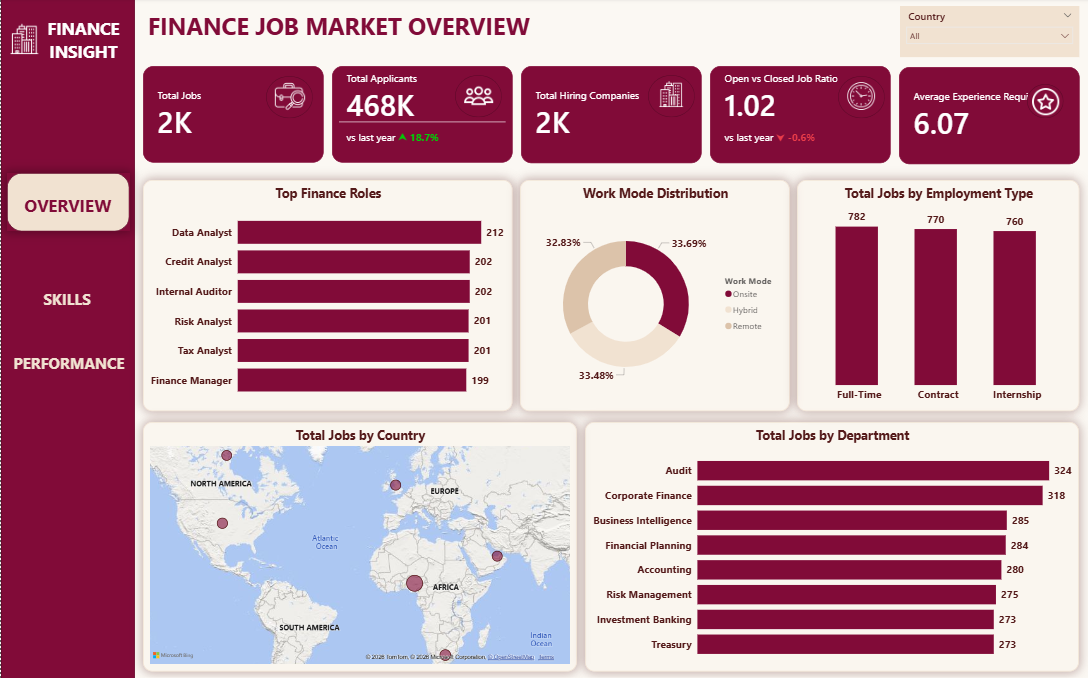

The dashboard page shown, as its layout file describes it:
{"tool":"powerbi","page":{"name":"OVERVIEW","canvas":[1720,1080],"ordinal":2},"visuals":[{"type":"textbox","box":[175.6,14.1,717.9,67.9],"z":0},{"type":"slicer","fields":{"Values":["Finance Dataset.Country"]},"box":[1423.1,12.7,284.3,81.5],"z":1000},{"type":"cardVisual","fields":{"Data":["Measures (2).Total Jobs"]},"box":[224.5,107.2,286,153],"z":2000},{"type":"cardVisual","fields":{"Data":["Measures (2).Total Hiring Companies"]},"box":[822.8,107.1,286.1,153.9],"z":3000},{"type":"cardVisual","fields":{"Data":["Measures (2).Total Applicants"]},"box":[523.7,107.3,286,153],"z":4000},{"type":"cardVisual","fields":{"Data":["Measures (2).Open vs Closed Job Ratio"]},"box":[1122,107.8,286.1,153.9],"z":5000},{"type":"cardVisual","fields":{"Data":["Measures (2).Average Experience Requirement"]},"box":[1421.3,108.6,286.1,153.9],"z":6000},{"type":"shape","box":[0,0,211.8,1080.9],"z":7000},{"type":"barChart","title":"        Top Finance Roles","fields":{"Category":["Job details DIM.Job Title"],"Y":["Measures (2).Total Jobs"]},"box":[224.5,287.9,584.8,365.7],"z":8000},{"type":"clusteredBarChart","fields":{"Category":["Job details DIM.Department"],"Y":["Measures (2).Total Jobs"]},"box":[925.2,671.7,782.1,394.7],"z":9000},{"type":"donutChart","title":"Work Mode Distribution","fields":{"Category":["Job details DIM.Work Mode"],"Y":["Measures (2).Total Jobs"]},"box":[822,287.9,427.3,365.7],"z":10000},{"type":"columnChart","fields":{"Category":["Job details DIM.Employment Type"],"Y":["Measures (2).Total Jobs"]},"box":[1260.1,287.9,447.2,365.7],"z":11000},{"type":"map","fields":{"Category":["Country DIM.Country"],"Size":["Measures (2).Total Jobs"]},"box":[225,671.7,686.7,395],"z":12000},{"type":"shape","box":[420,123.1,74.2,67],"z":13000},{"type":"shape","box":[1024.8,121.3,74.2,67],"z":14000},{"type":"image","box":[1035.6,126.7,50.7,50.7],"z":15000},{"type":"image","box":[420,126.7,76,57.9],"z":16000},{"type":"shape","box":[718.8,121.3,74.2,67],"z":17000},{"type":"shape","box":[1325.3,123.1,74.2,67],"z":18000},{"type":"shape","box":[1624,135.8,57.9,54.3],"z":19000},{"type":"image","box":[1330.7,128.5,63.4,54.3],"z":20000},{"type":"image","box":[1625.9,135.8,56.1,56.1],"z":21000},{"type":"image","box":[727.8,126.7,56.1,56.1],"z":22000},{"type":"shape","box":[9.1,277,193.7,92.3],"z":23000},{"type":"textbox","title":"OVERVIEW","box":[19.9,287.9,170.2,65.2],"z":24000},{"type":"textbox","title":"OVERVIEW","box":[32.6,438.1,143,65.2],"z":25000},{"type":"textbox","title":"OVERVIEW","box":[0,539.5,215.5,67],"z":26000},{"type":"image","box":[8.5,34.2,58.1,59.8],"z":27000},{"type":"textbox","box":[34.2,25.6,191.4,88.9],"z":28000}]}

Visuals, with their boxes in screenshot pixels (x1, y1, x2, y2), scaled from the page's 1720x1080 canvas onto the 1088x678 screenshot:
textbox: 111, 9, 565, 51
slicer - Finance Dataset.Country: 900, 8, 1080, 59
cardVisual - Measures (2).Total Jobs: 142, 67, 323, 163
cardVisual - Measures (2).Total Hiring Companies: 520, 67, 701, 164
cardVisual - Measures (2).Total Applicants: 331, 67, 512, 163
cardVisual - Measures (2).Open vs Closed Job Ratio: 710, 68, 891, 164
cardVisual - Measures (2).Average Experience Requirement: 899, 68, 1080, 165
shape: 0, 0, 134, 677
"        Top Finance Roles" barChart: 142, 181, 512, 410
clusteredBarChart - Job details DIM.Department x Measures (2).Total Jobs: 585, 422, 1080, 669
"Work Mode Distribution" donutChart: 520, 181, 790, 410
columnChart - Job details DIM.Employment Type x Measures (2).Total Jobs: 797, 181, 1080, 410
map - Country DIM.Country x Measures (2).Total Jobs: 142, 422, 577, 670
shape: 266, 77, 313, 119
shape: 648, 76, 695, 118
image: 655, 80, 687, 111
image: 266, 80, 314, 116
shape: 455, 76, 502, 118
shape: 838, 77, 885, 119
shape: 1027, 85, 1064, 119
image: 842, 81, 882, 115
image: 1028, 85, 1064, 120
image: 460, 80, 496, 115
shape: 6, 174, 128, 232
"OVERVIEW" textbox: 13, 181, 120, 222
"OVERVIEW" textbox: 21, 275, 111, 316
"OVERVIEW" textbox: 0, 339, 136, 381
image: 5, 21, 42, 59
textbox: 22, 16, 143, 72
